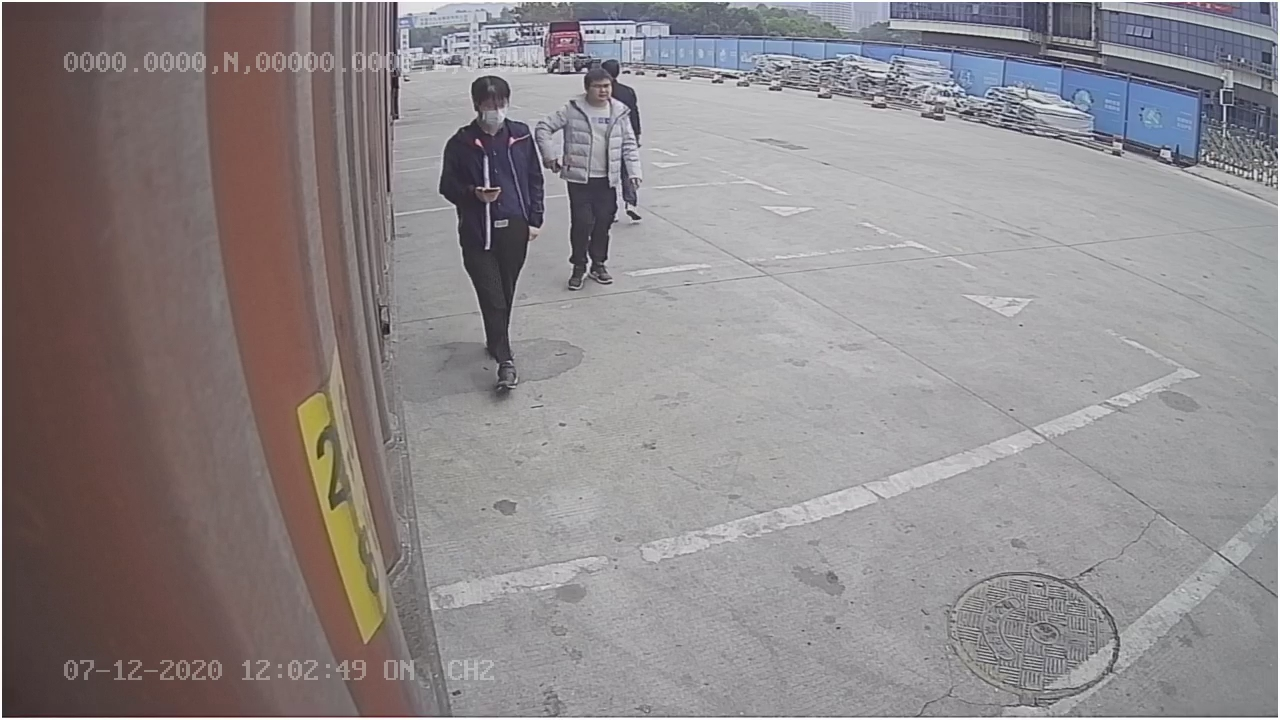person: (438, 71, 544, 395)
